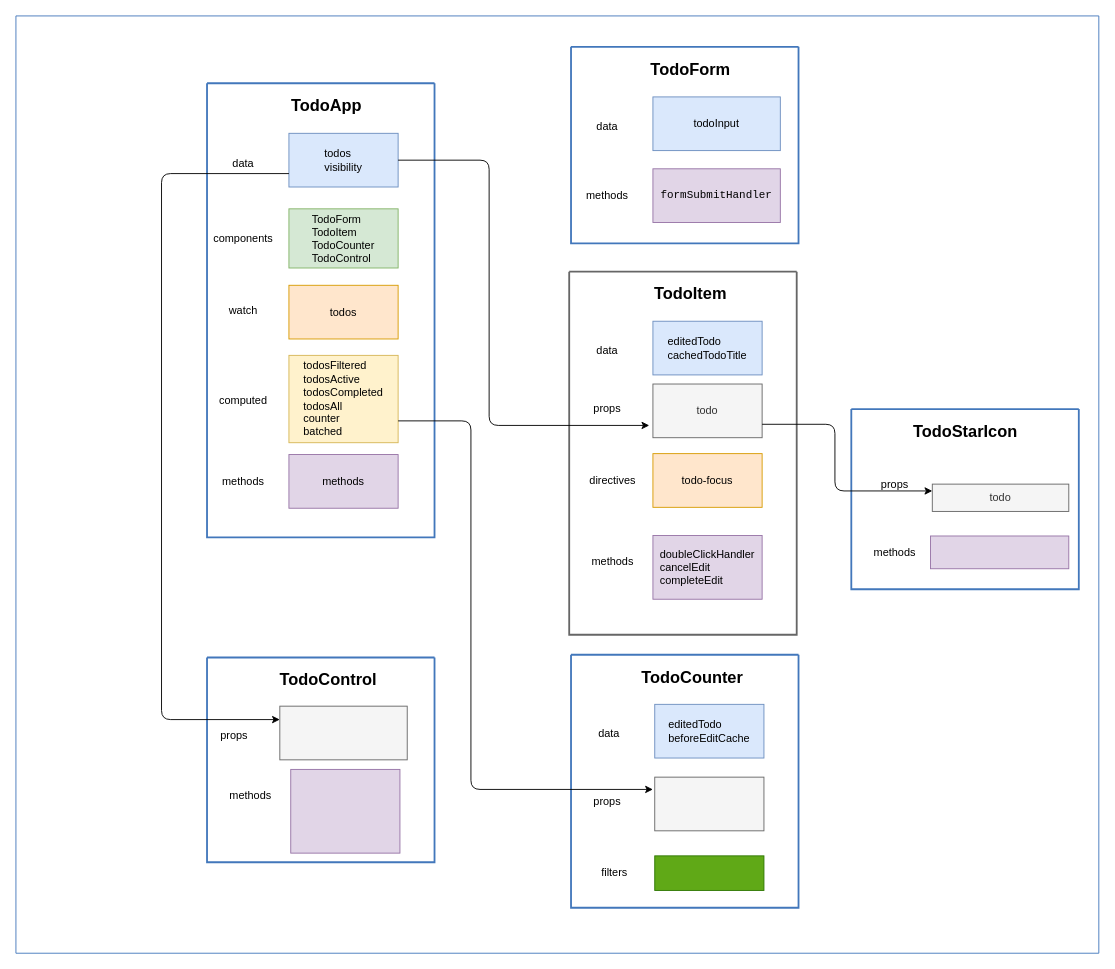
Image size: 1115x969. Some labels were removed from this diagram. Each missing label, with the centre of its shape:
counter: the point at 709,803
pluralize: the point at 709,872
showAll showActive showCompleted removeCompleted: the point at 345,810
toggleStarStatus: the point at 999,552
visibility: the point at 343,732
